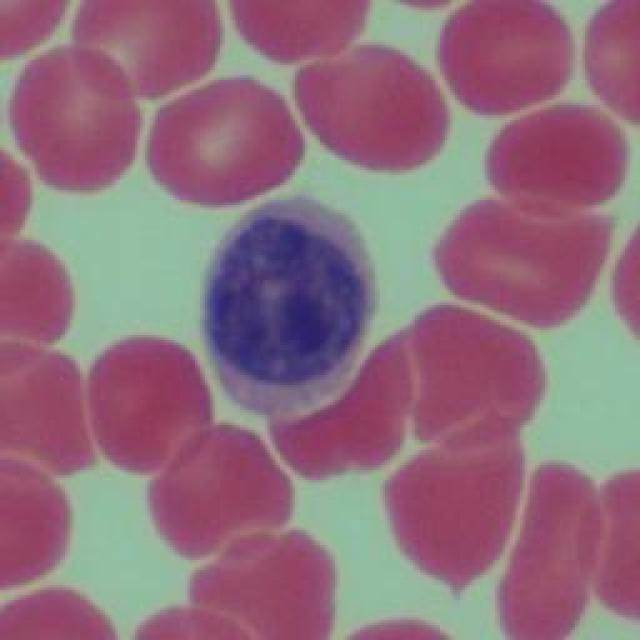RBC: (382, 411, 530, 599), (432, 196, 616, 332), (274, 326, 416, 482), (145, 75, 303, 210), (291, 44, 449, 176), (408, 302, 548, 448), (151, 424, 294, 561), (496, 457, 603, 640), (11, 46, 141, 194), (88, 333, 212, 475), (190, 527, 340, 640), (485, 104, 633, 218), (435, 0, 575, 120), (71, 0, 224, 105), (0, 339, 100, 479), (0, 235, 78, 375), (228, 0, 372, 68), (0, 452, 72, 587), (577, 470, 640, 620), (582, 2, 640, 126), (0, 582, 122, 639), (130, 605, 265, 640), (0, 0, 68, 60), (0, 142, 32, 249), (610, 232, 640, 342), (342, 617, 457, 640)
WBC: (200, 194, 380, 418)
